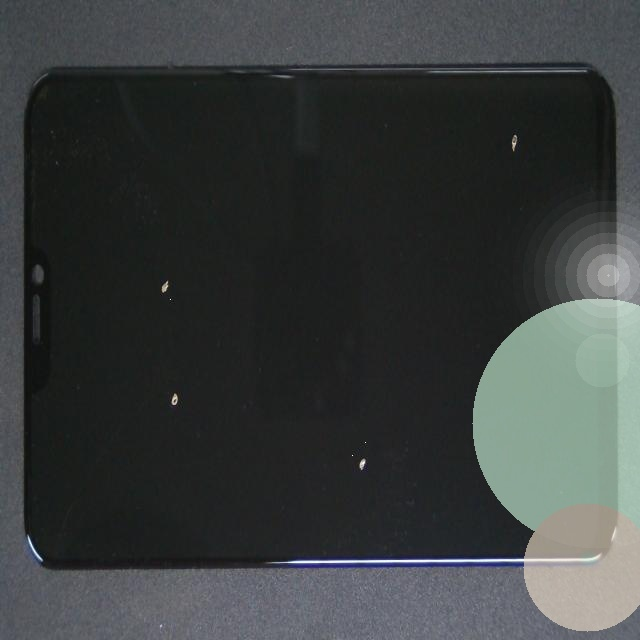stain: (169, 212, 520, 640), (214, 52, 640, 249), (101, 187, 283, 560), (79, 92, 230, 425)
